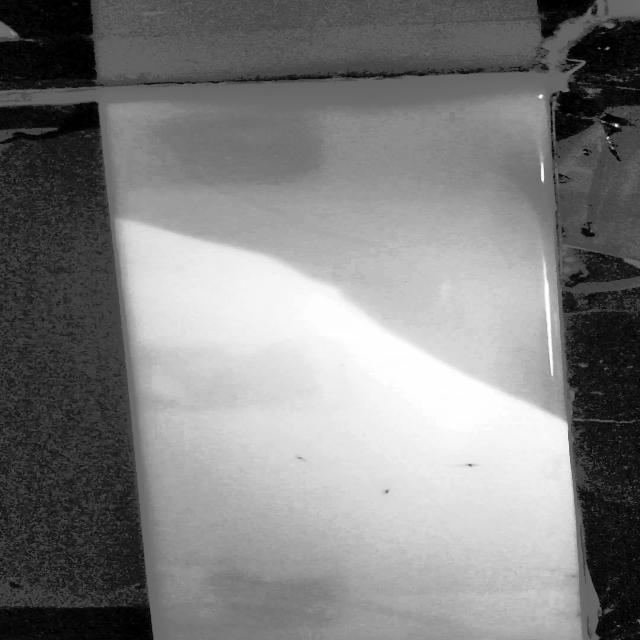shrimp: (447, 456, 489, 473)
